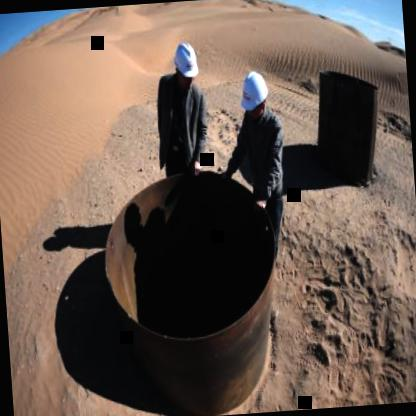helmet: (238, 69, 272, 124), (170, 35, 202, 92)
